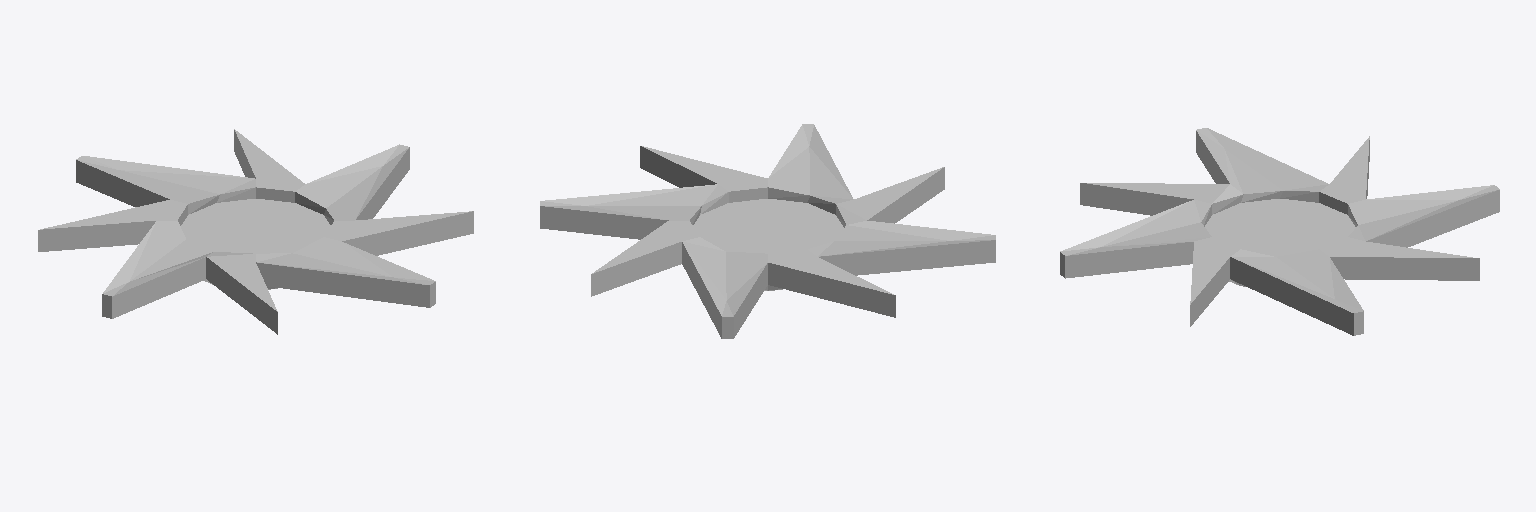
File: 6Disc.obj
3 views of the same model, side by side, from view 1: azimuth 30°, elevation 25°; view 2: azimuth 150°, elevation 25°; view 3: azimuth 270°, elevation 25° (orthographic).
Parts seen in each view (by area): view 1: 6Disc; view 2: 6Disc; view 3: 6Disc.
Boxes of the visible parts, x1,y1,x2,y2 form: 6Disc: [38, 129, 473, 334]; 6Disc: [540, 124, 995, 338]; 6Disc: [1060, 128, 1499, 335].
Bounding box in the file's own units: 4.44 × 0.7896 × 4.44.